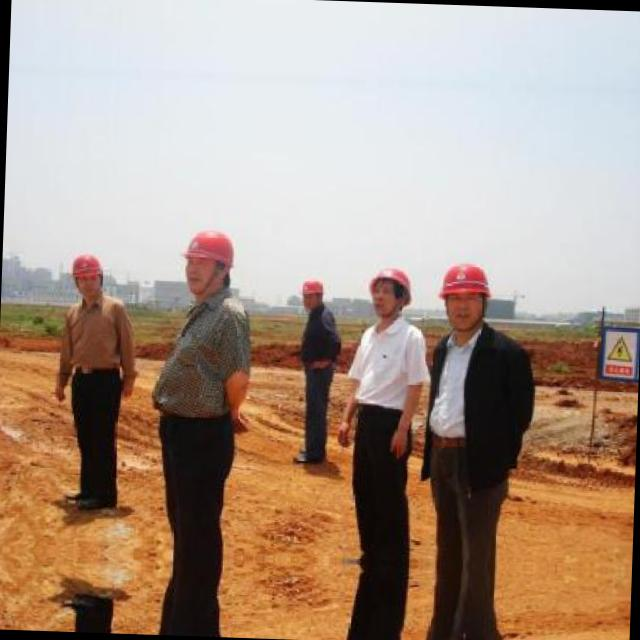helmet: (175, 223, 235, 300), (433, 257, 492, 331), (366, 262, 414, 321), (66, 249, 105, 304), (296, 272, 331, 316)
